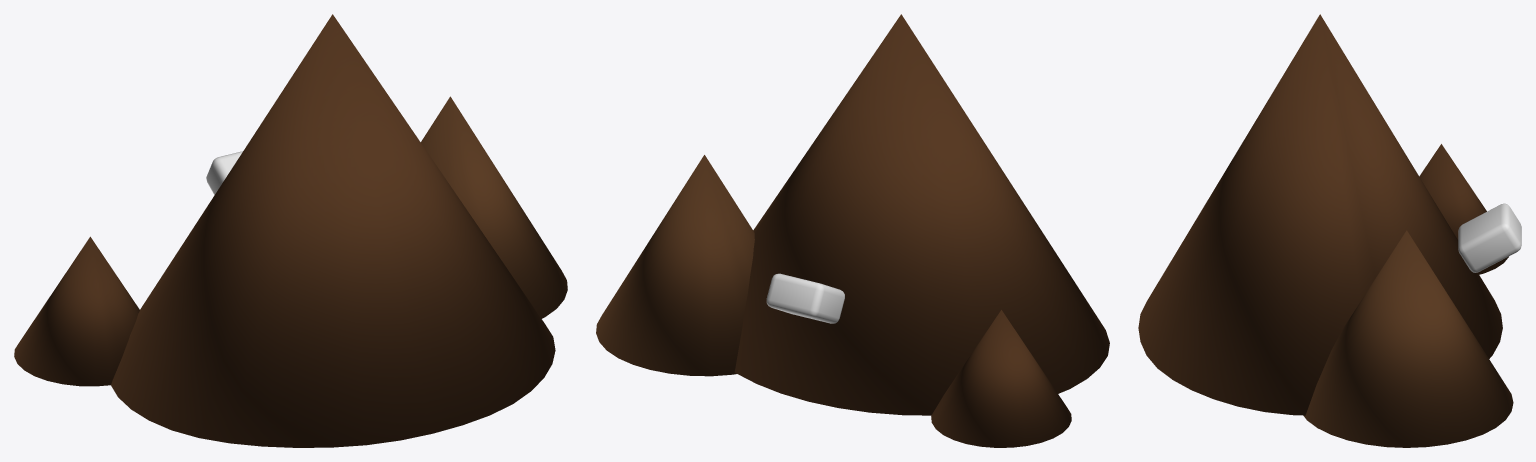
The model's file is termite-mound.obj.
The picture shows the model from 3 angles, left to right: view 1: azimuth 30°, elevation 25°; view 2: azimuth 150°, elevation 25°; view 3: azimuth 270°, elevation 25°; orthographic projection. The views are drawn at different scales.
Parts seen in each view (by area): view 1: termite-mound; view 2: termite-mound; view 3: termite-mound.
Part boxes in pixels (x1,y1,x2,y2): termite-mound: [14, 14, 567, 447]; termite-mound: [596, 14, 1109, 447]; termite-mound: [1138, 14, 1521, 447].
Bounding box in the file's own units: 1.54 × 1 × 1.11.
